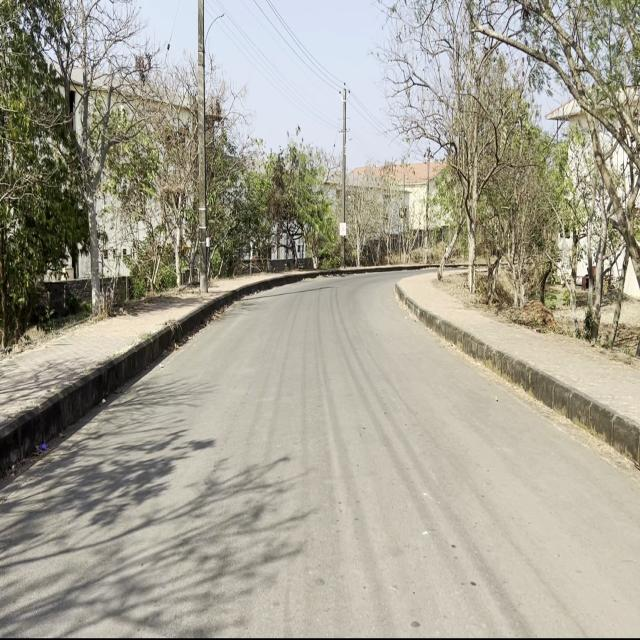Road: (4, 273, 637, 631)
